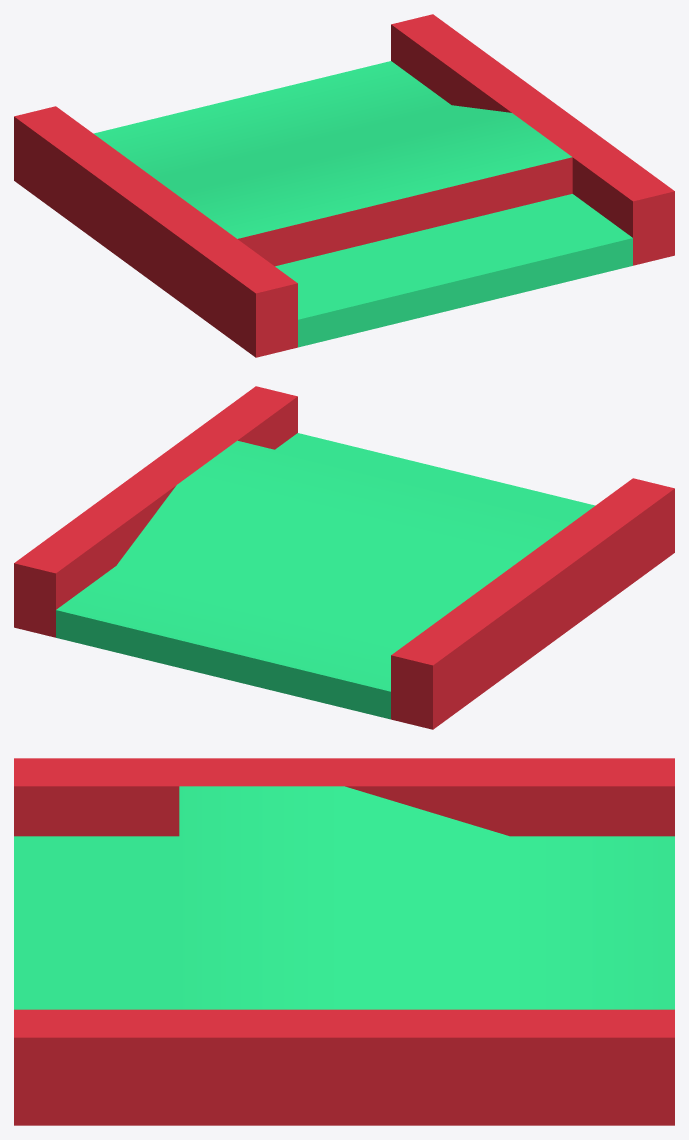
The model's file is rampSquare.fbx.
3 views of the same model, one above another, from view 1: azimuth 30°, elevation 25°; view 2: azimuth 150°, elevation 25°; view 3: azimuth 270°, elevation 25° (orthographic). The views are drawn at different scales.
Parts seen in each view (by area): view 1: rampSquare; view 2: rampSquare; view 3: rampSquare.
Boxes of the visible parts, left/top/right/bottom form: rampSquare: left=14, top=14, right=674, bottom=357; rampSquare: left=14, top=386, right=674, bottom=729; rampSquare: left=14, top=758, right=674, bottom=1125.
Size of the model in its own units: 10 by 1.47 by 10.
